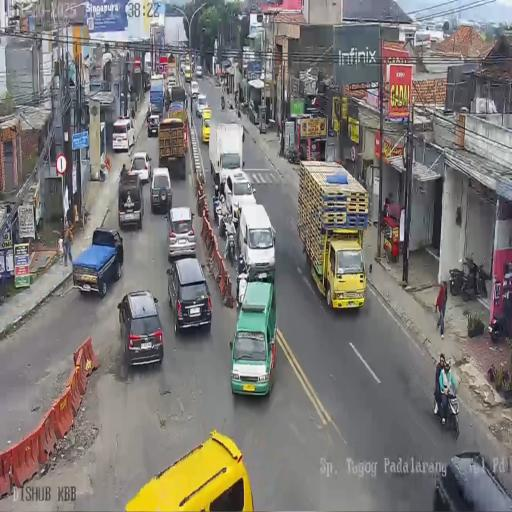car: (229, 282, 278, 394), (118, 292, 164, 370), (72, 227, 123, 297), (166, 258, 212, 335), (166, 206, 196, 259), (150, 166, 172, 214), (112, 116, 135, 153), (128, 151, 152, 185), (168, 100, 186, 124), (146, 109, 160, 137), (195, 94, 209, 120), (119, 91, 131, 114), (248, 100, 259, 125), (166, 77, 177, 98), (190, 80, 200, 100), (195, 65, 203, 79), (180, 61, 186, 75)
motorcycle: (450, 256, 490, 302), (490, 267, 512, 338), (434, 376, 457, 438), (285, 144, 301, 166), (220, 96, 225, 110)
truck: (298, 159, 366, 310), (210, 121, 244, 199), (158, 116, 186, 178), (149, 76, 165, 116), (184, 61, 192, 81)
